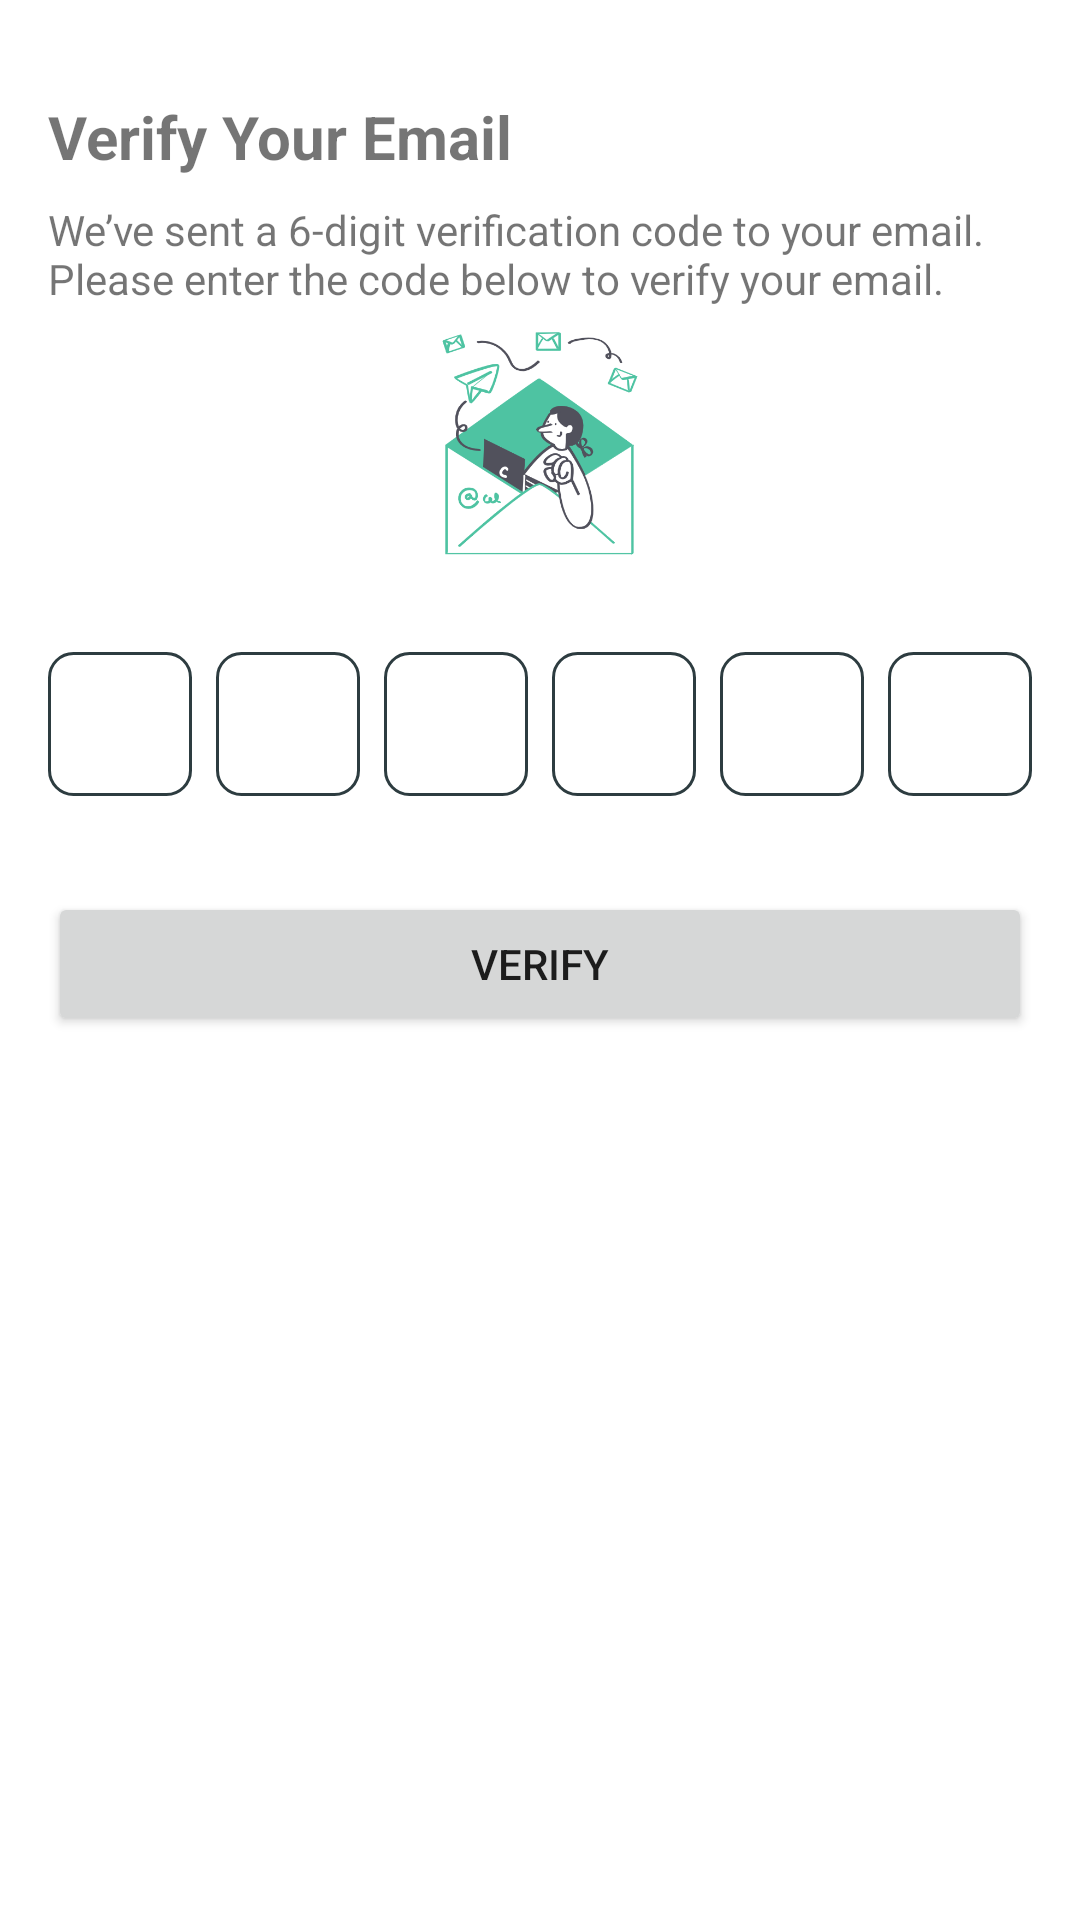

Point at icon controls on the screen. Image size 1080x1920, points as [x,y].
sending emai: [540,443]
